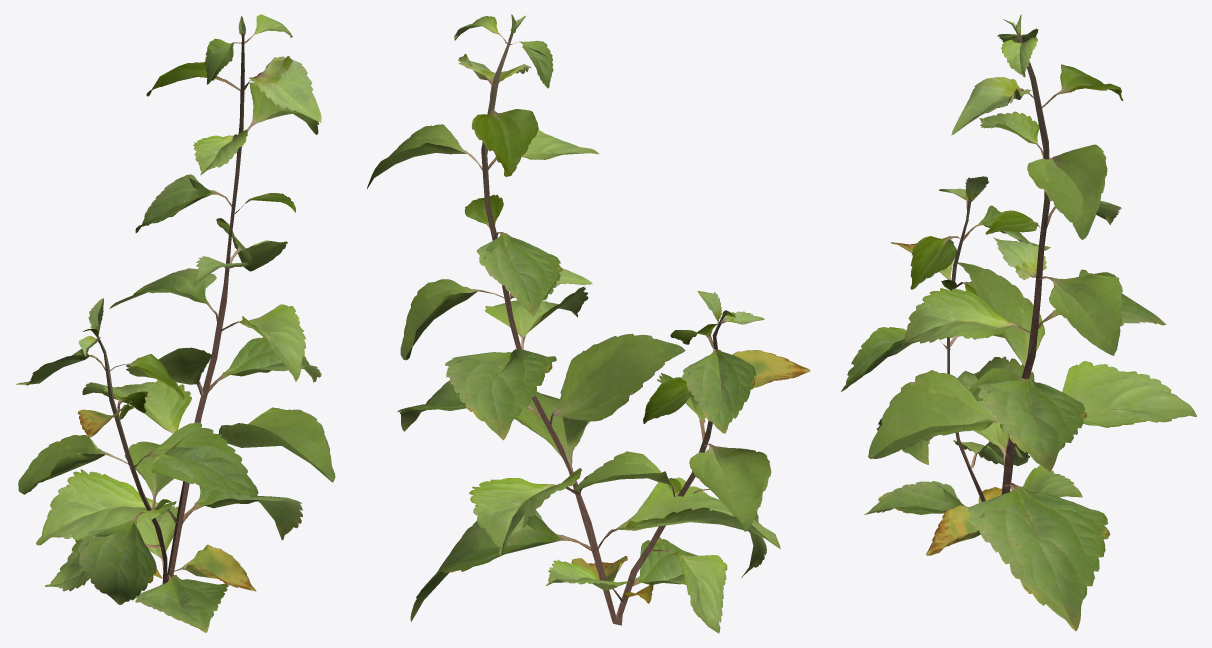
File: shrub_01.glb
The picture shows the model from 3 angles, left to right: view 1: azimuth 30°, elevation 25°; view 2: azimuth 150°, elevation 25°; view 3: azimuth 270°, elevation 25°; orthographic projection. The views are drawn at different scales.
Parts seen in each view (by area): view 1: shrub_01; view 2: shrub_01; view 3: shrub_01.
Part boxes in pixels (bbox=[...]): shrub_01: bbox=[16, 14, 335, 632]; shrub_01: bbox=[367, 14, 810, 633]; shrub_01: bbox=[841, 14, 1196, 631].
Bounding box in the file's own units: 0.231 × 0.372 × 0.2059.
1 material, 1 textured.
